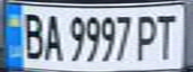7: (115, 11, 136, 62)
9: (63, 11, 84, 63), (81, 11, 100, 63), (100, 11, 118, 62)
A: (39, 10, 66, 62)
B: (18, 9, 48, 61)
P: (133, 11, 160, 62)
T: (151, 10, 181, 61)
